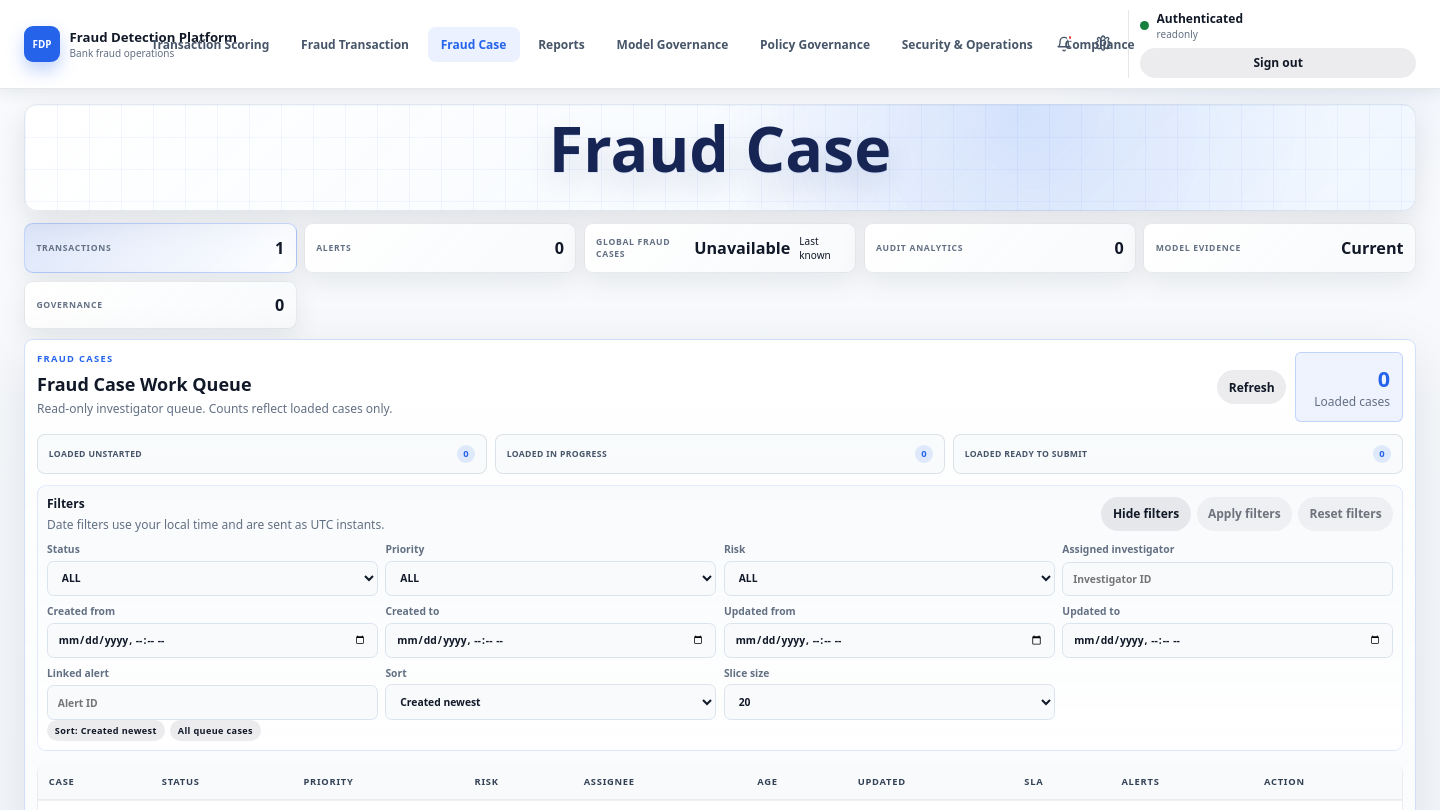
Test: App › keeps transaction scoring usable when the fraud case global summary fails
Click the link "Transaction Scoring" at coordinates (210, 44), box top-left (151, 36), bottom-right (269, 53)
(page scrolled)
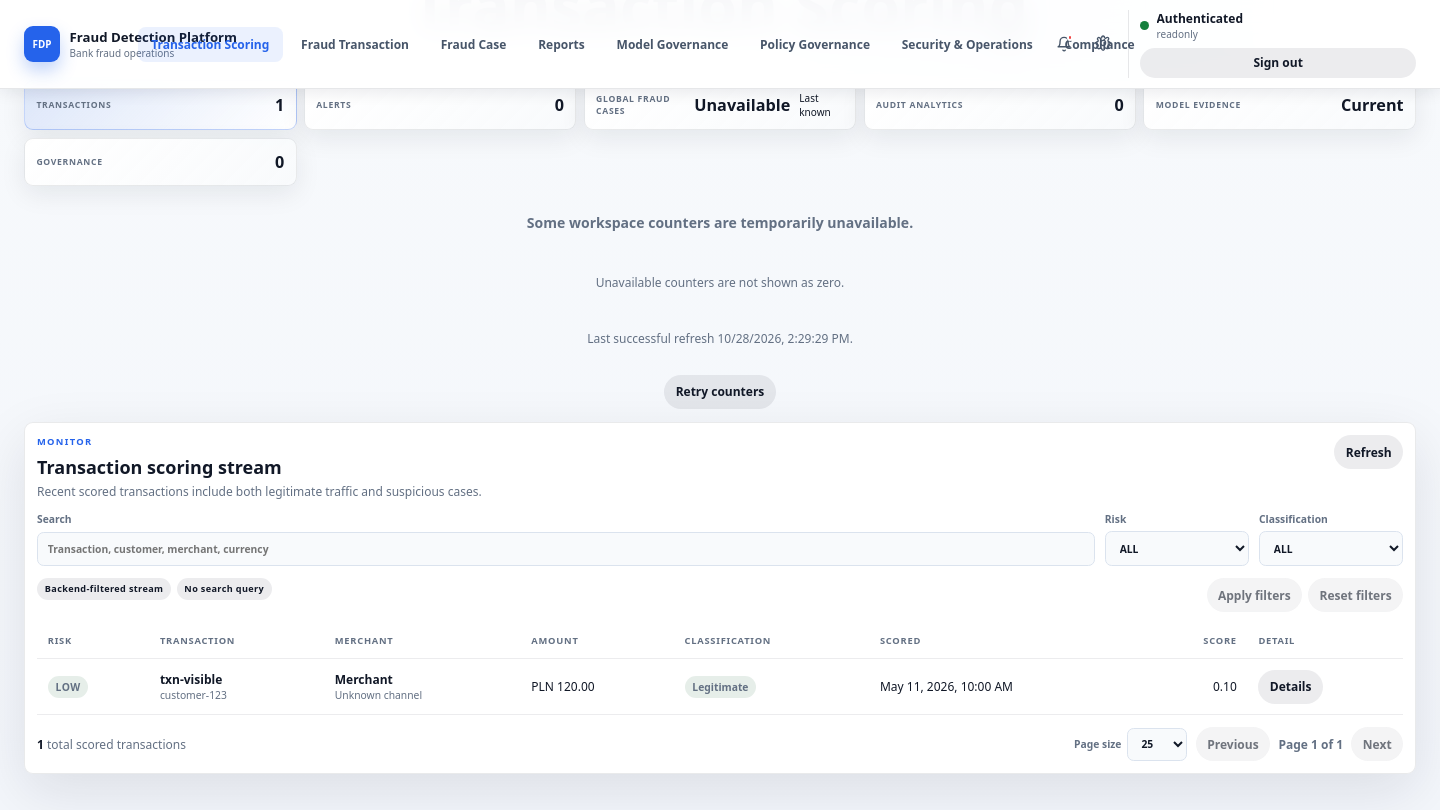
expect the text "txn-visible" is shown: met, box top-left (160, 671), bottom-right (222, 688)
